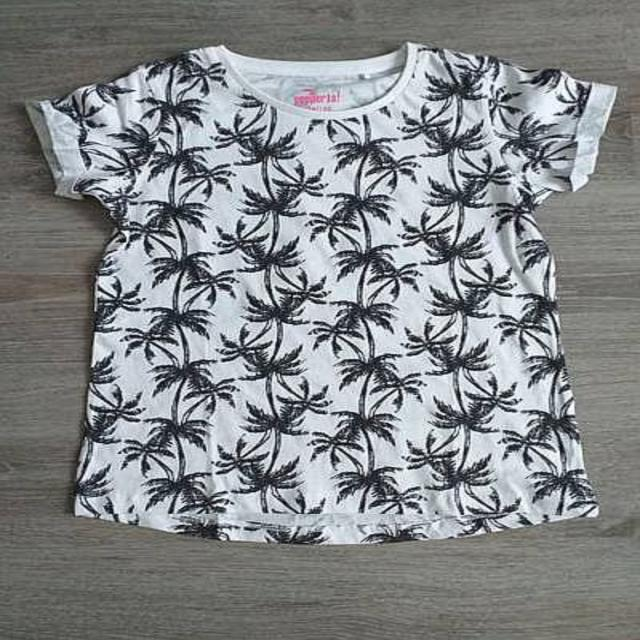T_SHIRT: (19, 34, 633, 555)
